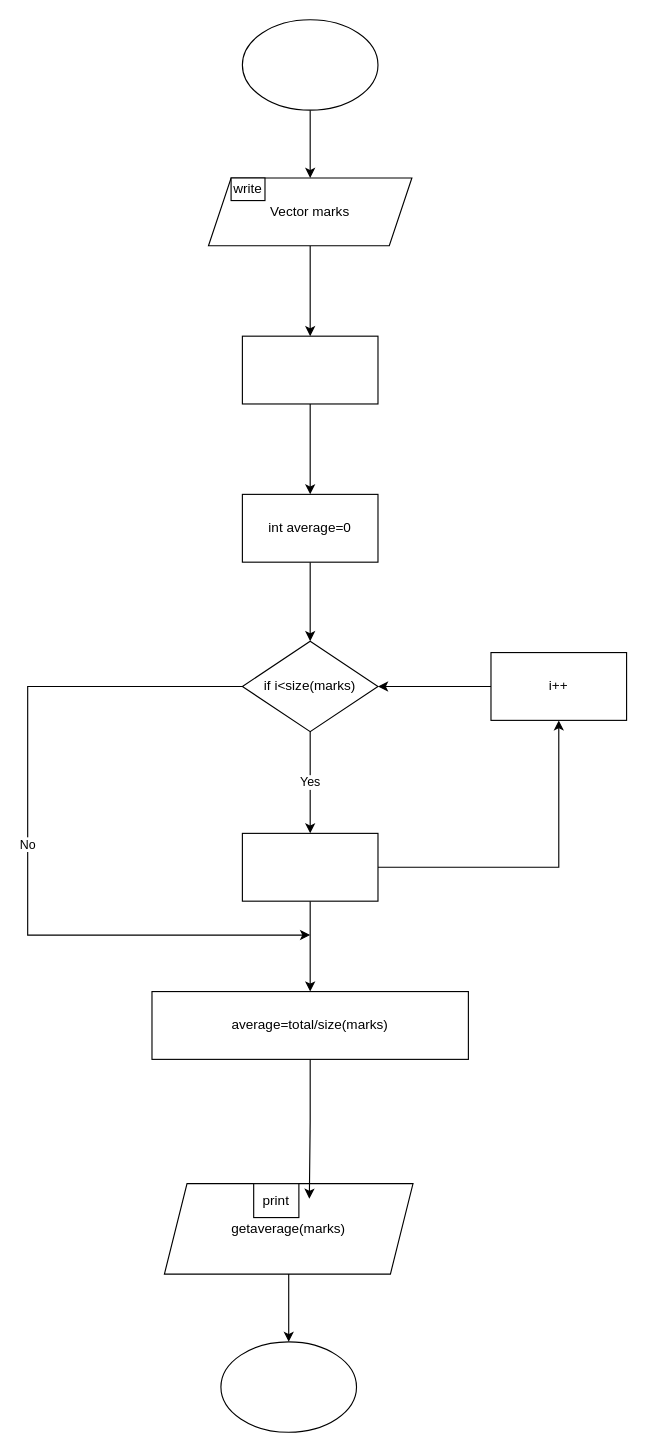
This 646x1452 diagram has some shape labels left out. The box of each missing label's shape, as (x1, y1, x2, y2) in pixels:
End: (220, 1341, 357, 1432)
int total=0: (241, 335, 378, 404)
Start: (241, 19, 378, 110)
total+=marks[i]: (241, 832, 378, 901)
